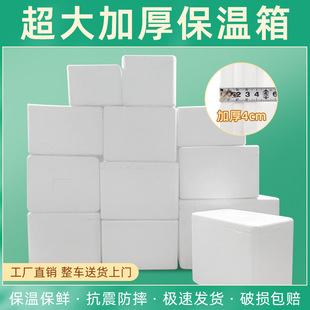泡沫箱: (23, 55, 293, 285)
